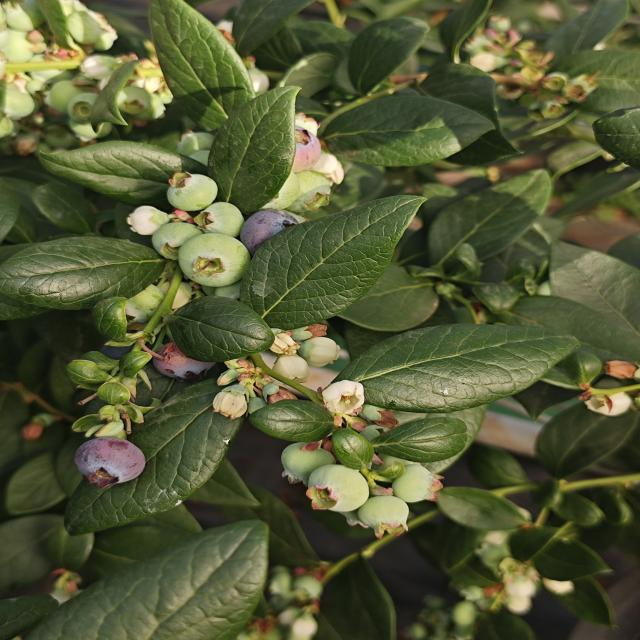ripe: (71, 435, 149, 492), (238, 207, 301, 256), (92, 330, 139, 362)
